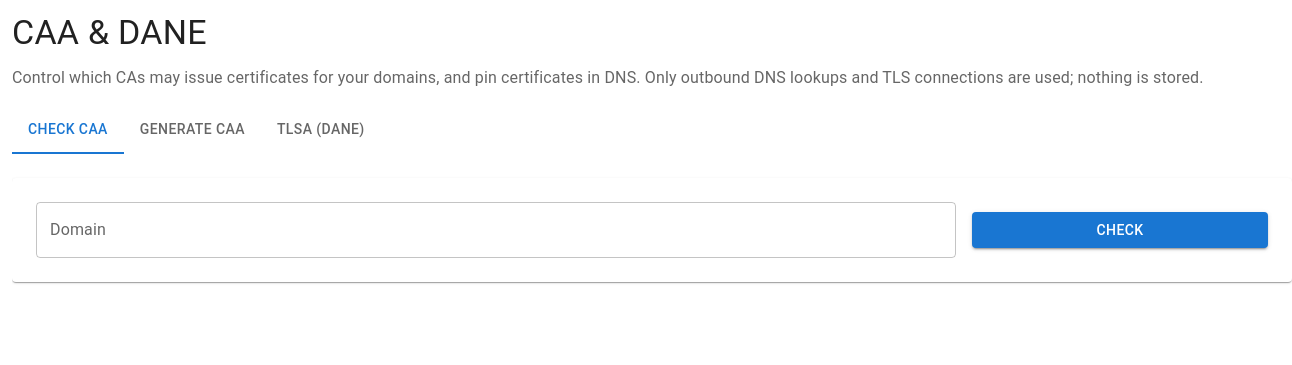
it: shows a DNS failure from the server
Type "x" into the field labelled "Domain" at coordinates (496, 230), box left=36, top=202, right=956, bottom=258
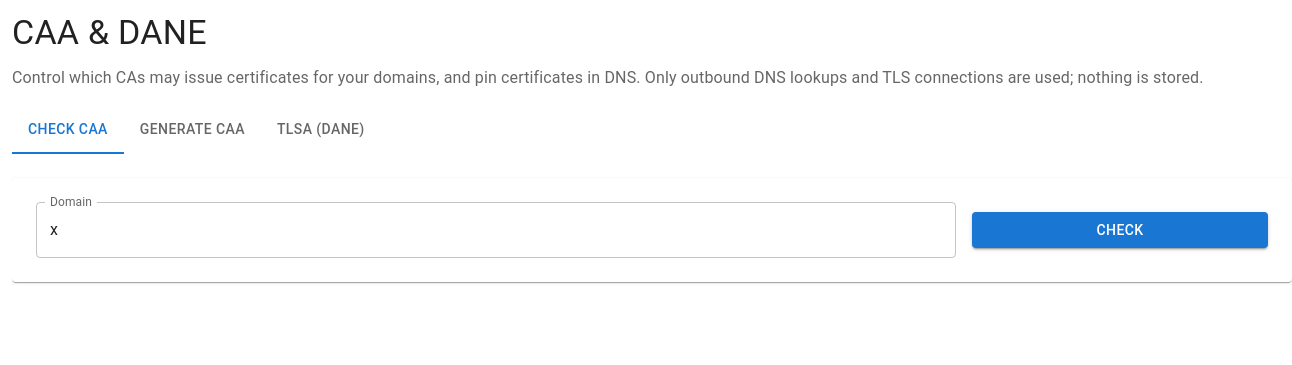
Click the button "Check" at coordinates (1120, 230), box left=972, top=212, right=1268, bottom=248
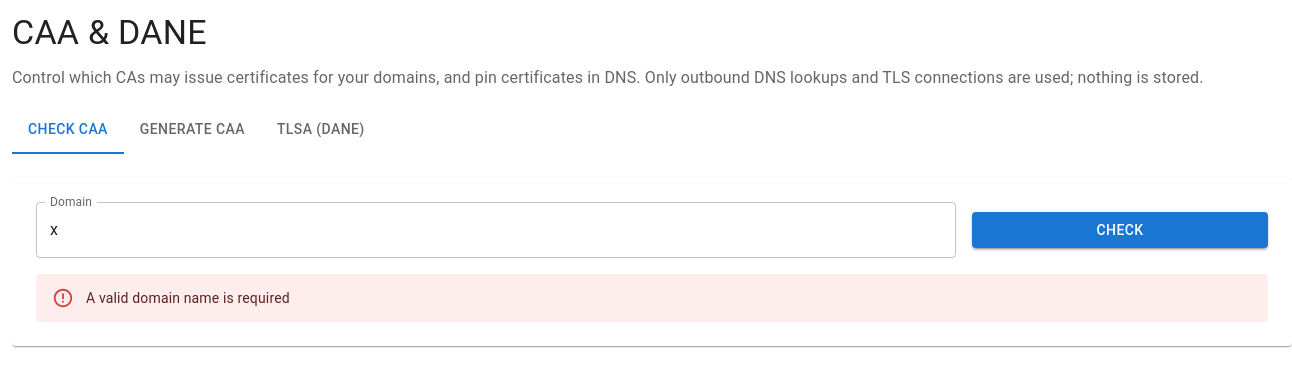
Check: the text "A valid domain name is required" is shown, box left=86, top=290, right=290, bottom=306
